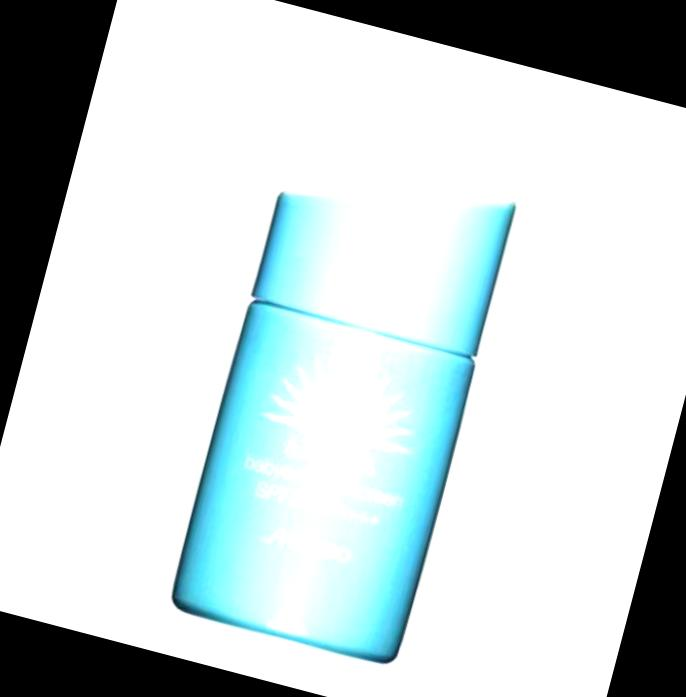cosmetic: (167, 138, 524, 670)
